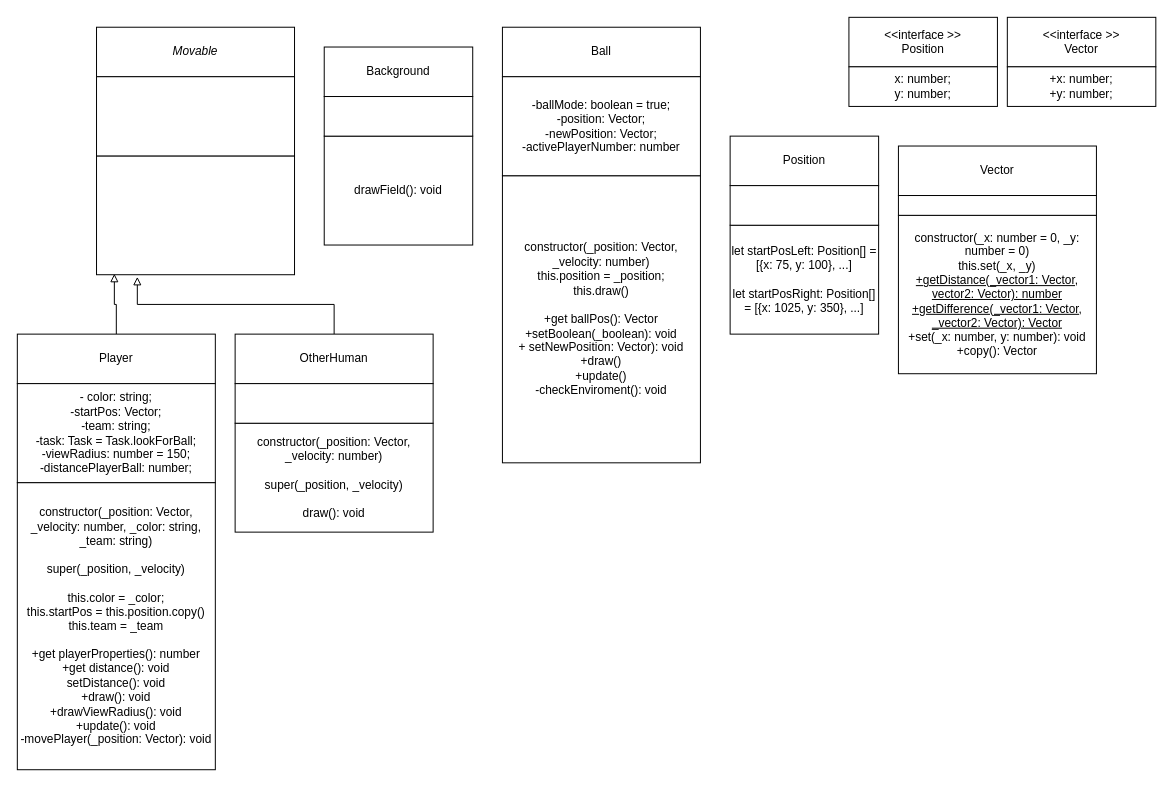
Some shapes in this 1173 by 787 pixel diagram are drawn without their labels. Each missing label, with the centre of its shape:
# velocity: number; # position: Vector;: point 195,116
constructor(_position: Vector, _velocity: number) +draw() +update(): point 195,215
